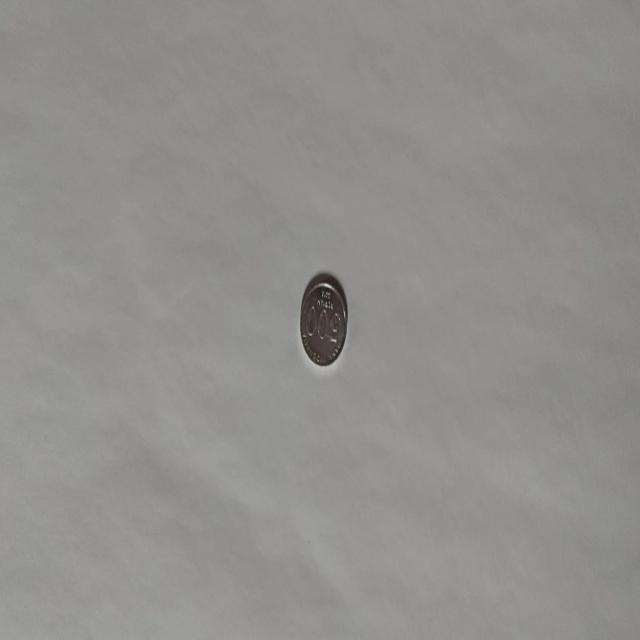lima ratus rupiah: (298, 273, 348, 367)
